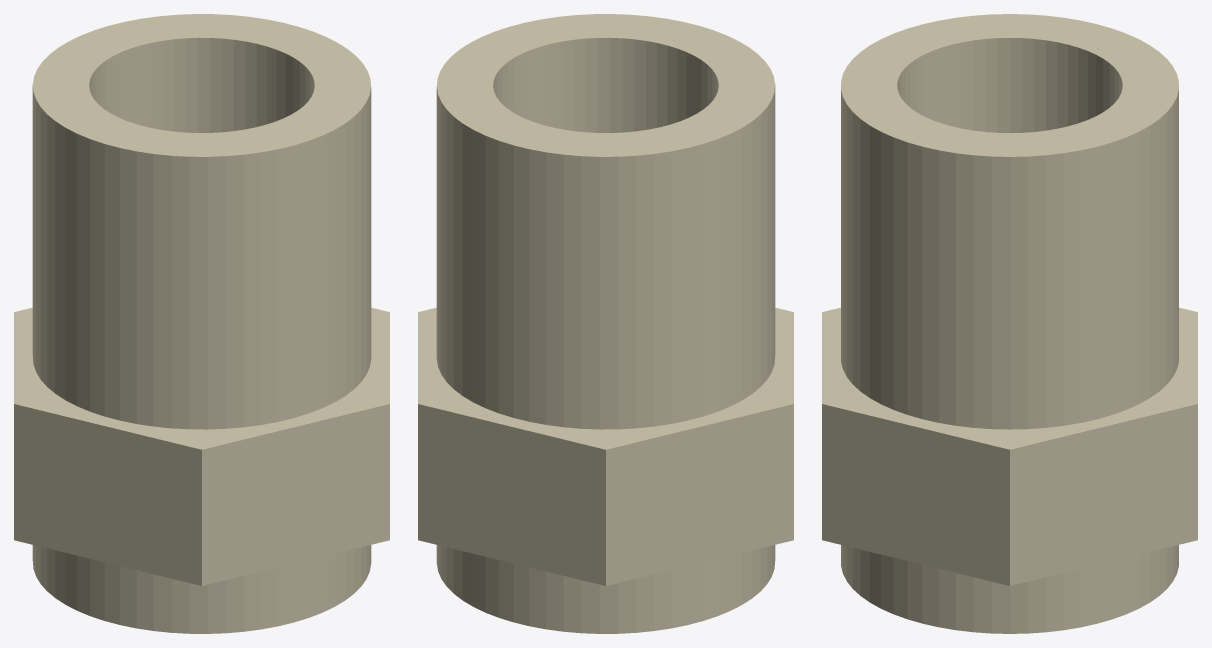
The model's file is fuel-test-body.glb.
3 views of the same model, side by side, from view 1: azimuth 30°, elevation 25°; view 2: azimuth 150°, elevation 25°; view 3: azimuth 270°, elevation 25° (orthographic).
Parts seen in each view (by area): view 1: world; view 2: world; view 3: world.
Boxes of the visible parts, x1,y1,x2,y2 form: world: (14, 14, 389, 633); world: (418, 14, 793, 633); world: (822, 14, 1197, 633).
Bounding box in the file's own units: 0.0115 × 0.014 × 0.01.
